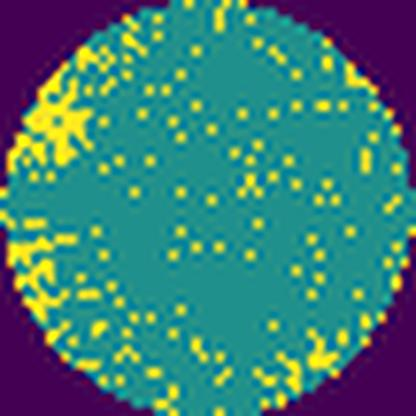Edge-Loc: (0, 36, 118, 178), (7, 218, 88, 345)
